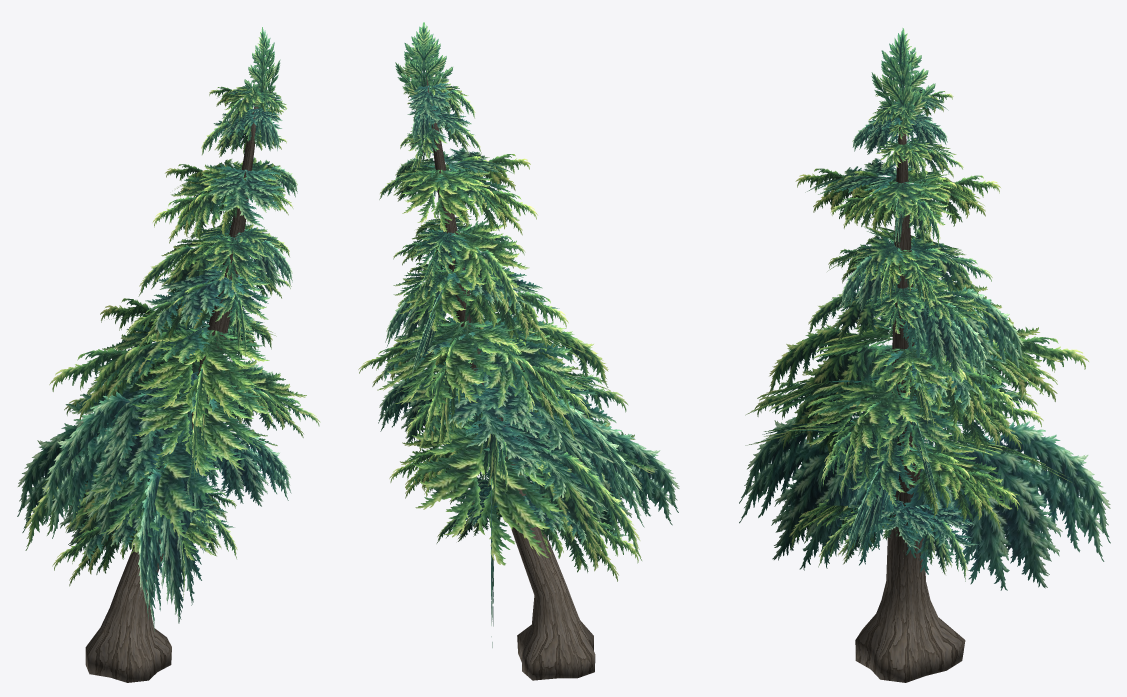
Rendered from tree_pine_lean.glb.
The picture shows the model from 3 angles, left to right: view 1: azimuth 30°, elevation 25°; view 2: azimuth 150°, elevation 25°; view 3: azimuth 270°, elevation 25°; orthographic projection. The views are drawn at different scales.
Visible parts, largest first — view 1: tree_pine_lean; view 2: tree_pine_lean; view 3: tree_pine_lean.
Boxes of the visible parts, x1,y1,x2,y2 form: tree_pine_lean: (17,27,320,682); tree_pine_lean: (358,22,679,680); tree_pine_lean: (739,28,1110,682).
Bounding box in the file's own units: 13.13 × 28.35 × 14.54.
2 materials, 2 textured.
